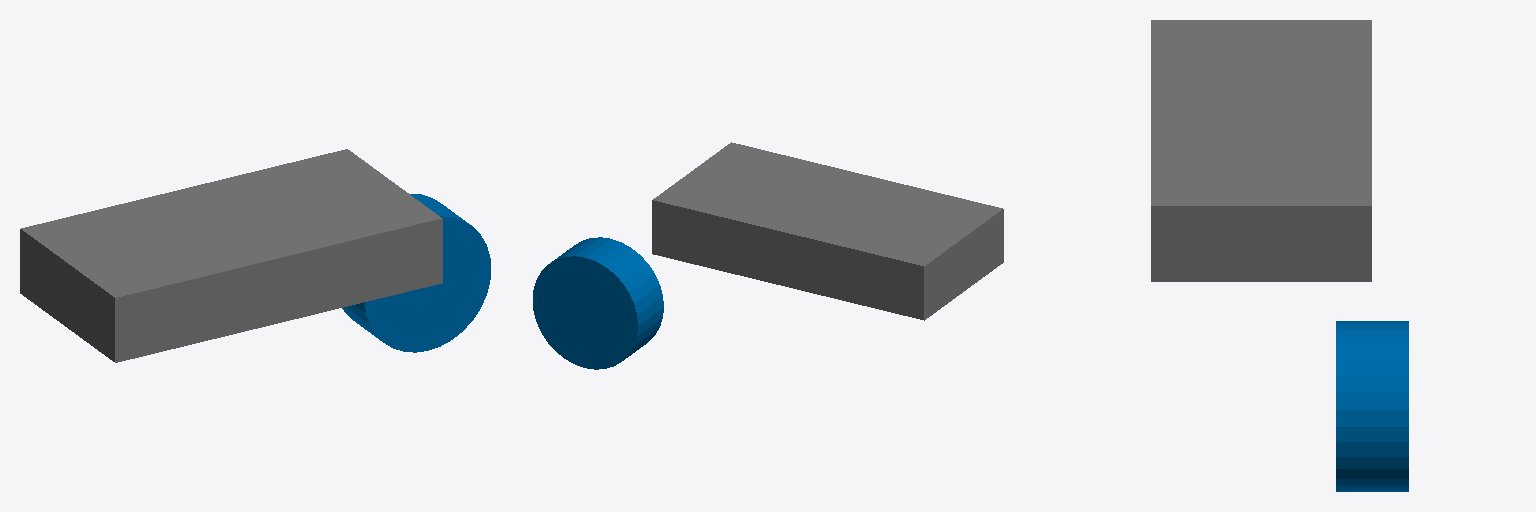
URDF robot description (tas_car_platform):
<?xml version="1.0" ?>
<!-- =================================================================================== -->
<!-- |    This document was autogenerated by xacro from tas_car_platform.urdf.xacro    | -->
<!-- |    EDITING THIS FILE BY HAND IS NOT RECOMMENDED                                 | -->
<!-- =================================================================================== -->
<robot name="tas_car_platform" xmlns:xacro="http://www.ros.org/wiki/xacro">
  <!--
file: tas_car_platform.urdf.xacro
author: gsimonic

This file defines the model for the tas_car RC car from LSR.

The measurements are in meters, angles are in radians and masses in kilograms.
All of these values are just approximations.

For the model to work in Gazebo:
- all links (even connections) must have an inertial element
- a link must have a collision element to be visible in Gazebo
- the link must have a Gazebo material

Macros are defined in "macros.xacro".
Materials are defined in "materials.xacro".
Gazebo parameters are defined in "tas_car.gazebo".

This work is open for upgrading.
Things that need to be improved:
- vehicle measurements
- various links

-->
  <!-- Define parameters. -->
  <!-- Some degree to radians conversions. -->
  <!-- Chassis. -->
  <!-- Almin: 0.138 -->
  <!-- Caster. -->
  <!-- Wheels. -->
  <!-- Distance between two (front or rear) wheels. -->
  <!-- Shock absorbers. -->
  <!-- hex_hub_dist is the distance between left and right hex hubs when
       the shock absorbers are fully extended. axle_length is the distance
       from a U joint to the corresponding hex hub. wheel_travel is the
       vertical wheel travel. -->
  <!-- Some default motor specifications. -->
  <!-- These constants are used to simulate a  Savox SV-0235MG servo operated at
       7.4 V. servo_stall_torque is measured in N m. servo_no_load_speed is
       measured in rad/s. -->
  <!-- produces 486.1 oz-in = 3.432620346181713 n-m of torque -->
  <!-- no load speed 0.13 sec/60 deg -> (1/0.13)*60 deg/sec = 8.05536578 rad/s -->
  <!-- Camera. -->
  <!-- Include external files. -->
  <gazebo reference="base_link">
    <material>Gazebo/Grey</material>
    <!-- Friction. -->
    <mu1>0</mu1>
    <mu2>0</mu2>
  </gazebo>
  <gazebo reference="chassis">
    <material>Gazebo/Orange</material>
  </gazebo>
  <!-- Add the plugin to acces the joints of the wheels. -->
  <gazebo>
    <plugin filename="libgazebo_ros_control.so" name="gazebo_ros_control">
      <robotNamespace>/tas_car_platform</robotNamespace>
    </plugin>
  </gazebo>
  <!--
	<gazebo>
		<plugin name="differential_drive_controller" filename="libgazebo_ros_diff_drive.so">
			<alwaysOn>true</alwaysOn>
			<updateRate>50</updateRate>
			<leftJoint>front_left_wheel_hinge</leftJoint>
			<rightJoint>front_right_wheel_hinge</rightJoint>
			<wheelSeparation>${chassisWidth+wheelWidth}</wheelSeparation>
			<wheelDiameter>${2*wheelRadius}</wheelDiameter>
			<torque>1000</torque>
			<commandTopic>tas_car/cmd_vel</commandTopic>
			<odometryTopic>tas_car/odom_diffdrive</odometryTopic>
			<odometryFrame>odom</odometryFrame>
			<robotBaseFrame>footprint</robotBaseFrame>
		</plugin>
	</gazebo>
-->
  <!-- SENSORS -->
  <!-- Camera. -->
  <!--
	<gazebo reference="camera">
		<material>Gazebo/Blue</material>
		<sensor type="camera" name="camera1">
			<update_rate>30.0</update_rate>
			<camera name="head">
				<horizontal_fov>1.3962634</horizontal_fov>
				<image>
					<width>800</width>
					<height>800</height>
					<format>R8G8B8</format>
				</image>
				<clip>
					<near>0.02</near>
					<far>300</far>
				</clip>
			</camera>
			<plugin name="camera_controller" filename="libgazebo_ros_camera.so">
				<alwaysOn>true</alwaysOn>
				<updateRate>0.0</updateRate>
				<cameraName>tas_car/camera1</cameraName>
				<imageTopicName>image_raw</imageTopicName>
				<cameraInfoTopicName>camera_info</cameraInfoTopicName>
				<frameName>camera_link</frameName>
				<hackBaseline>0.07</hackBaseline>
				<distortionK1>0.0</distortionK1>
				<distortionK2>0.0</distortionK2>
				<distortionK3>0.0</distortionK3>
				<distortionT1>0.0</distortionT1>
				<distortionT2>0.0</distortionT2>
			</plugin>
		</sensor>
	</gazebo>
-->
  <!-- Hokuyo Gazebo reference. -->
  <!--
	<gazebo reference="hokuyo_link">
		<sensor type="gpu_ray" name="head_hokuyo_sensor">
			<pose>0 0 0 0 0 0</pose>
			<visualize>false</visualize>
			<update_rate>40</update_rate>
			<ray>
				<scan>
					<horizontal>
						<samples>720</samples>
						<resolution>1</resolution>
						<min_angle>-1.570796</min_angle>
						<max_angle>1.570796</max_angle>
					</horizontal>
				</scan>
				<range>
					<min>0.10</min>
					<max>30.0</max>
					<resolution>0.01</resolution>
				</range>
				<noise>
					<type>gaussian</type>
					<!- Noise parameters based on published spec for Hokuyo laser
					achieving "+-30mm" accuracy at range < 10m.  A mean of 0.0m and
					stddev of 0.01m will put 99.7% of samples within 0.03m of the true
					reading. -->
  <!--
					<mean>0.0</mean>
					<stddev>0.01</stddev>
				</noise>
			</ray>
			<plugin name="gazebo_ros_head_hokuyo_controller" filename="libgazebo_ros_gpu_laser.so">
				<topicName>/rrbot/laser/scan</topicName>
				<frameName>hokuyo_link</frameName>
			</plugin>
		</sensor>
	</gazebo>
-->
  <material name="black">
    <color rgba="0.0 0.0 0.0 1.0"/>
  </material>
  <material name="blue">
    <color rgba="0.0 0.0 0.8 1.0"/>
  </material>
  <material name="green">
    <color rgba="0.0 0.8 0.0 1.0"/>
  </material>
  <material name="grey">
    <color rgba="0.2 0.2 0.2 1.0"/>
  </material>
  <material name="orange">
    <color rgba="1.0 0.423529411765 0.0392156862745 1.0"/>
  </material>
  <material name="brown">
    <color rgba="0.870588235294 0.811764705882 0.764705882353 1.0"/>
  </material>
  <material name="red">
    <color rgba="0.8 0.0 0.0 1.0"/>
  </material>
  <material name="white">
    <color rgba="1.0 1.0 1.0 1.0"/>
  </material>
  <material name="chassis_mat">
    <color rgba="0.5 0.5 0.5 1"/>
  </material>
  <!-- Null inertial element. This is needed to make the model work with
       Gazebo. -->
  <!-- Inertia of a thin cylinder. -->
  <!-- Inertia of any empty box. -->
  <!-- Shock absorbers. -->
  <!-- Rear shock absorber. -->
  <!-- The "wheel" macro defines an axle carrier, axle, and wheel. -->
  <!-- Front wheel -->
  <!-- Rear wheel -->
  <!-- Start the model description. -->
  <!-- base_link must have geometry so that its axes can be displayed in
       rviz. -->
  <link name="base_link">
    <!-- Can be empty. -->
  </link>
  <!-- Chassis -->
  <link name="chassis">
    <visual>
      <origin rpy="0 0 0" xyz="0 0 0.0695"/>
      <geometry>
        <box size="0.358 0.18 0.068"/>
      </geometry>
      <material name="chassis_mat"/>
    </visual>
    <collision>
      <origin rpy="0 0 0" xyz="0 0 0.0695"/>
      <geometry>
        <box size="0.358 0.18 0.18"/>
      </geometry>
    </collision>
    <inertial>
      <origin rpy="0 0 0" xyz="0 0 0.0695"/>
      <mass value="3"/>
      <inertia ixx="0.009256" ixy="0" ixz="0" iyy="0.033197" iyz="0" izz="0.033197"/>
    </inertial>
  </link>
  <!-- Connect the base_link to the chassis. -->
  <joint name="base_link_to_chasis" type="fixed">
    <axis xyz="0 -1 -1"/>
    <parent link="base_link"/>
    <child link="chassis"/>
  </joint>
  <!-- Add the wheels. -->
  <joint name="left_front_shock" type="prismatic">
    <parent link="chassis"/>
    <child link="left_steering_link"/>
    <origin xyz="0.25                        0.09                        -0.043"/>
    <axis xyz="0 0 -1"/>
    <limit effort="189.1369818" lower="-0.05" upper="0.05" velocity="1000"/>
    <dynamics damping="88" friction="0.0001" spring_reference="0.08" spring_stiffness="3152"/>
  </joint>
  <transmission name="left_front_shock_trans">
    <type>transmission_interface/SimpleTransmission</type>
    <joint name="left_front_shock">
      <hardwareInterface>EffortJointInterface</hardwareInterface>
    </joint>
    <actuator name="left_front_shock_act">
      <!-- This hardwareInterface element exists for compatibility
                 with ROS Hydro. -->
      <hardwareInterface>EffortJointInterface</hardwareInterface>
      <mechanicalReduction>1</mechanicalReduction>
    </actuator>
  </transmission>
  <link name="left_steering_link">
    <inertial>
      <origin rpy="0 0 0" xyz="0 0 0"/>
      <mass value="0.001"/>
      <inertia ixx="0.001" ixy="0" ixz="0" iyy="0.001" iyz="0" izz="0.001"/>
    </inertial>
  </link>
  <joint name="left_steering_joint" type="revolute">
    <parent link="left_steering_link"/>
    <child link="left_front_axle_carrier"/>
    <!-- cant the front wheels to improve traction -->
    <axis xyz="0 -0.09950372  0.99503719"/>
    <limit effort="3.43262034618" lower="-0.3665191429" upper="0.3665191429" velocity="8.05536578"/>
  </joint>
  <transmission name="left_steering_trans">
    <type>transmission_interface/SimpleTransmission</type>
    <joint name="left_steering_joint">
      <hardwareInterface>EffortJointInterface</hardwareInterface>
    </joint>
    <actuator name="left_steering_act">
      <hardwareInterface>EffortJointInterface</hardwareInterface>
      <mechanicalReduction>1</mechanicalReduction>
    </actuator>
  </transmission>
  <!-- Add the wheel. -->
  <!-- Define the axle carrier with zero inertia. -->
  <link name="left_front_axle_carrier">
    <inertial>
      <origin rpy="0 0 0" xyz="0 0 0"/>
      <mass value="0.001"/>
      <inertia ixx="0.001" ixy="0" ixz="0" iyy="0.001" iyz="0" izz="0.001"/>
    </inertial>
  </link>
  <!-- The left and right axles have the same axis so that identical
        rotation values cause the wheels to rotate in the same direction. -->
  <joint name="left_front_axle" type="continuous">
    <parent link="left_front_axle_carrier"/>
    <child link="left_front_wheel"/>
    <origin rpy="1.57079633 0 0" xyz="0 0 0"/>
    <axis xyz="0 0 -1"/>
    <limit effort="2" velocity="282.315789474"/>
    <dynamics damping="0.001" friction="0.5"/>
  </joint>
  <transmission name="left_front_axle_trans">
    <type>transmission_interface/SimpleTransmission</type>
    <joint name="left_front_axle">
      <hardwareInterface>EffortJointInterface</hardwareInterface>
    </joint>
    <actuator name="left_front_axle_act">
      <hardwareInterface>EffortJointInterface</hardwareInterface>
      <mechanicalReduction>1</mechanicalReduction>
    </actuator>
  </transmission>
  <link name="left_front_wheel">
    <visual>
      <origin xyz="0 0 0"/>
      <geometry>
        <cylinder length="0.059" radius="0.0695"/>
      </geometry>
    </visual>
    <collision name="collision">
      <origin xyz="0 0 0"/>
      <geometry>
        <cylinder length="0.059" radius="0.0695"/>
      </geometry>
    </collision>
    <collision name="material">
      <origin xyz="0 0 0"/>
      <geometry>
        <cylinder length="0.059" radius="0.0695"/>
      </geometry>
    </collision>
    <inertial>
      <origin rpy="0 0 0" xyz="0 0 0"/>
      <mass value="0.5"/>
      <inertia ixx="0.000748822916667" ixy="0" ixz="0" iyy="0.000748822916667" iyz="0" izz="0.0012075625"/>
    </inertial>
    <max_contacts>1</max_contacts>
    <surface>
      <contact>
        <ode>
          <soft_cfm>0.000000001</soft_cfm>
          <soft_erp>0.2</soft_erp>
          <kp>1e+10</kp>
          <kd>10</kd>
          <max_vel>0.01</max_vel>
          <min_depth>0.005</min_depth>
        </ode>
      </contact>
    </surface>
  </link>
  <gazebo reference="left_front_wheel">
    <!-- Define friction of the wheel. -->
    <mu1>0.7</mu1>
    <mu2>0.75</mu2>
    <!-- Define the material for Gazebo. -->
    <material>Gazebo/Black</material>
  </gazebo>
</robot>

--- Facts derived from the render (not from the file) ---
Views: 3 orthographic renders of the robot side by side, from view 1: azimuth 30°, elevation 25°; view 2: azimuth 150°, elevation 25°; view 3: azimuth 270°, elevation 25°.
Robot: tas_car_platform — 5 links, 4 joints (1 revolute, 1 continuous, 1 prismatic, 1 fixed); root link base_link; default pose: every joint at zero.
Visible links, largest first — view 1: chassis, left_front_wheel; view 2: chassis, left_front_wheel; view 3: chassis, left_front_wheel.
Boxes of the visible links, <box> form: chassis: <box>20,149,442,362</box>; left_front_wheel: <box>342,194,490,352</box>; chassis: <box>652,142,1003,320</box>; left_front_wheel: <box>533,237,663,369</box>; chassis: <box>1151,20,1371,281</box>; left_front_wheel: <box>1336,321,1408,491</box>.
Size in the robot's own frame: 0.4985 by 0.2095 by 0.216 metres.
Geometry: primitives only (box / cylinder / sphere), no mesh files.
